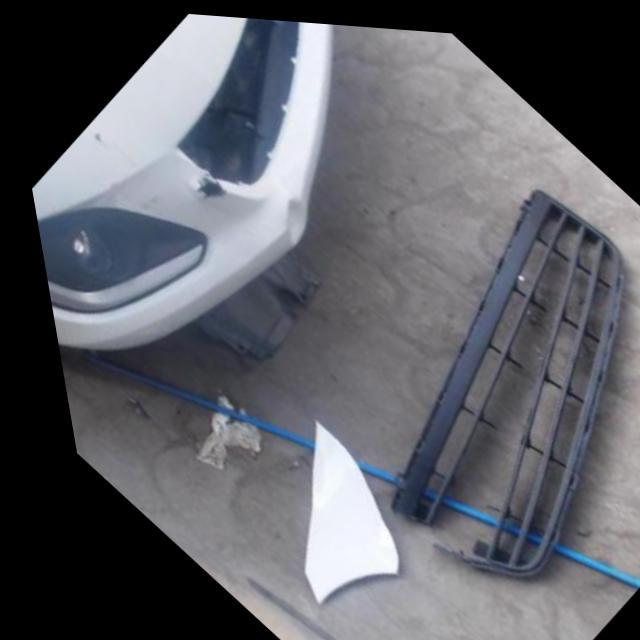crack: (88, 128, 141, 167), (188, 169, 225, 202)
dent: (96, 171, 127, 207)
dislocated part: (168, 13, 309, 195)
